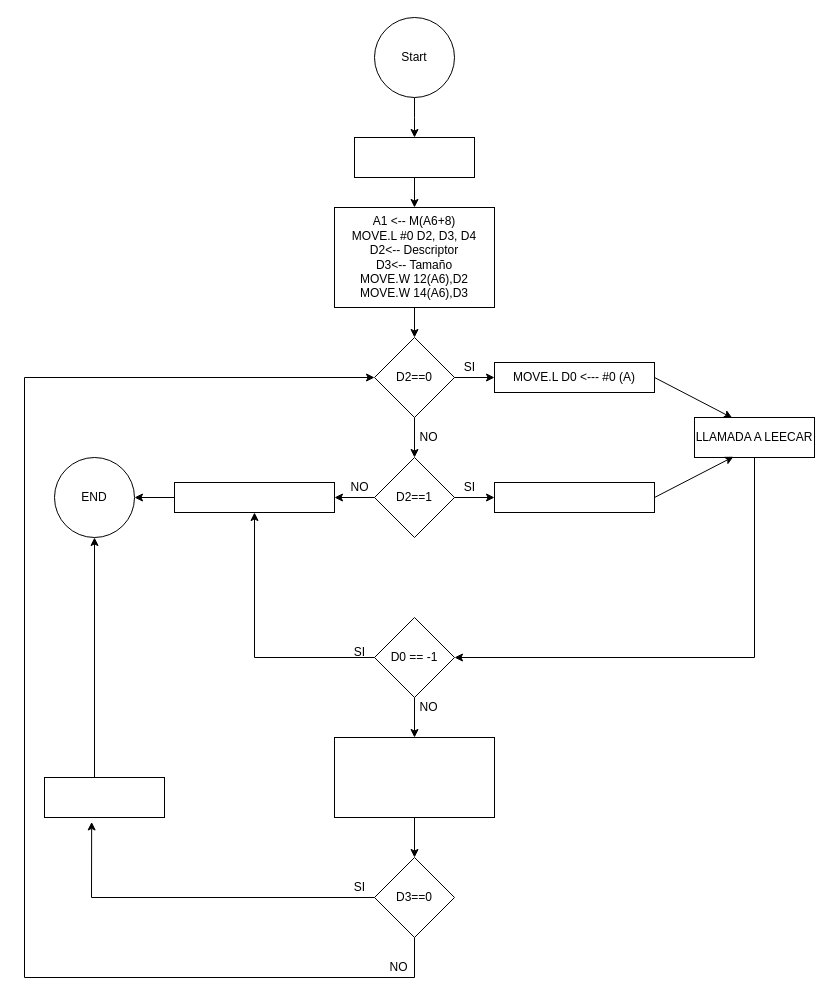
Image size: 832x1003. Some labels were removed from this diagram. The shapes that lost their labels are listed below. From the top down, each one's box as (x1, y1, x2, y2) in pixels, then its label:
(354, 136, 474, 178): Inicialización del marco de pila
(174, 482, 334, 512): MOVE.L D0 <---$FFFFFFFF
(494, 482, 654, 512): MOVE.L D0 <--- #1 (B)
(44, 776, 164, 818): MOVE.L D4 D0
(334, 736, 494, 818): M(A1) <--- D0 A1 <--- A1+1 D4=D4+1 D3=D3-1
